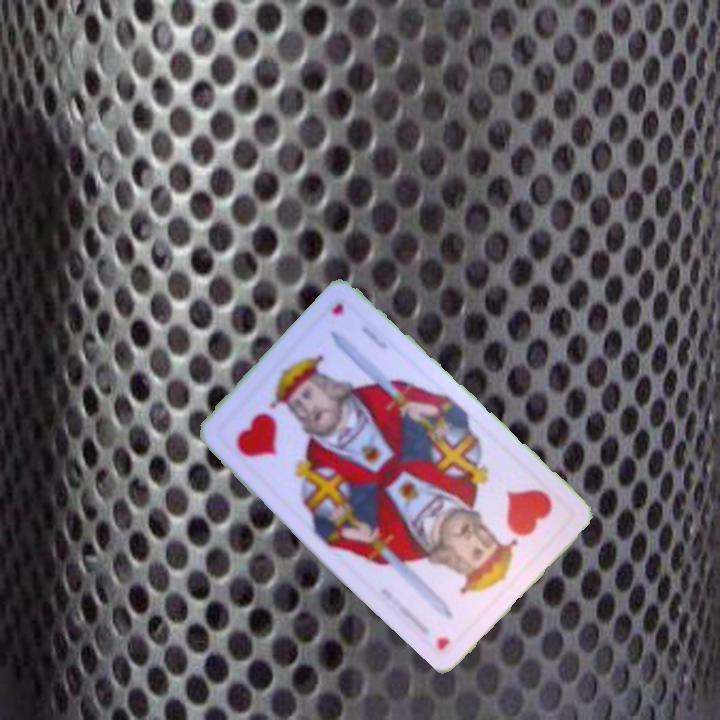h_k.png: (447, 456, 576, 586), (211, 364, 339, 493)
